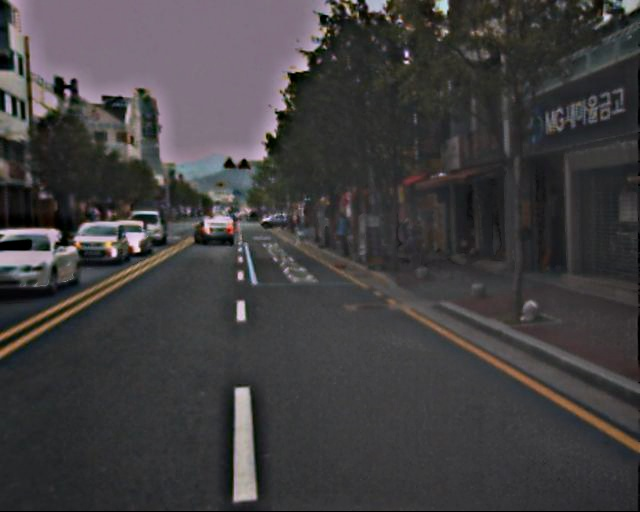person: (334, 210, 355, 260), (403, 217, 423, 266)
